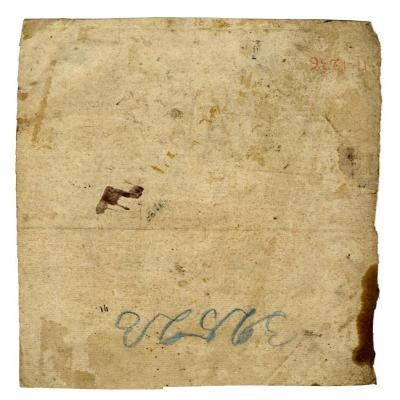graphics: (15, 17, 383, 393)
